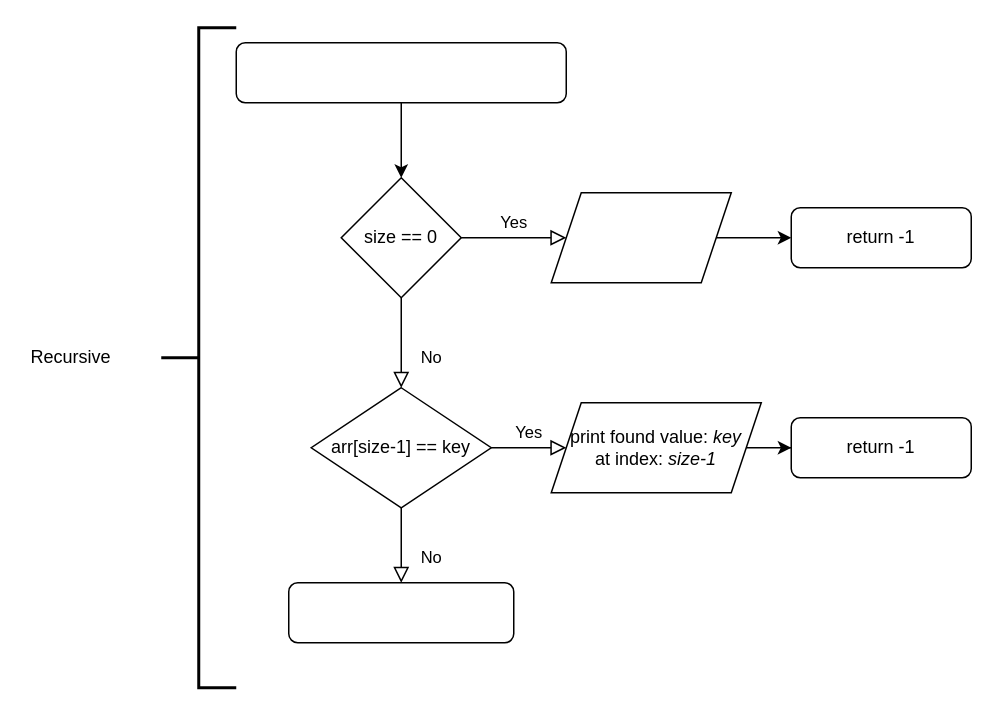
Some shapes in this 998 by 714 pixel diagram are drawn without their labels. Each missing label, with the box of its shape:
print value key not found: (550, 191, 731, 283)
return search(arr, size - 1, key: (287, 581, 514, 643)
search(int arr[]. int size, int key: (235, 41, 566, 103)
